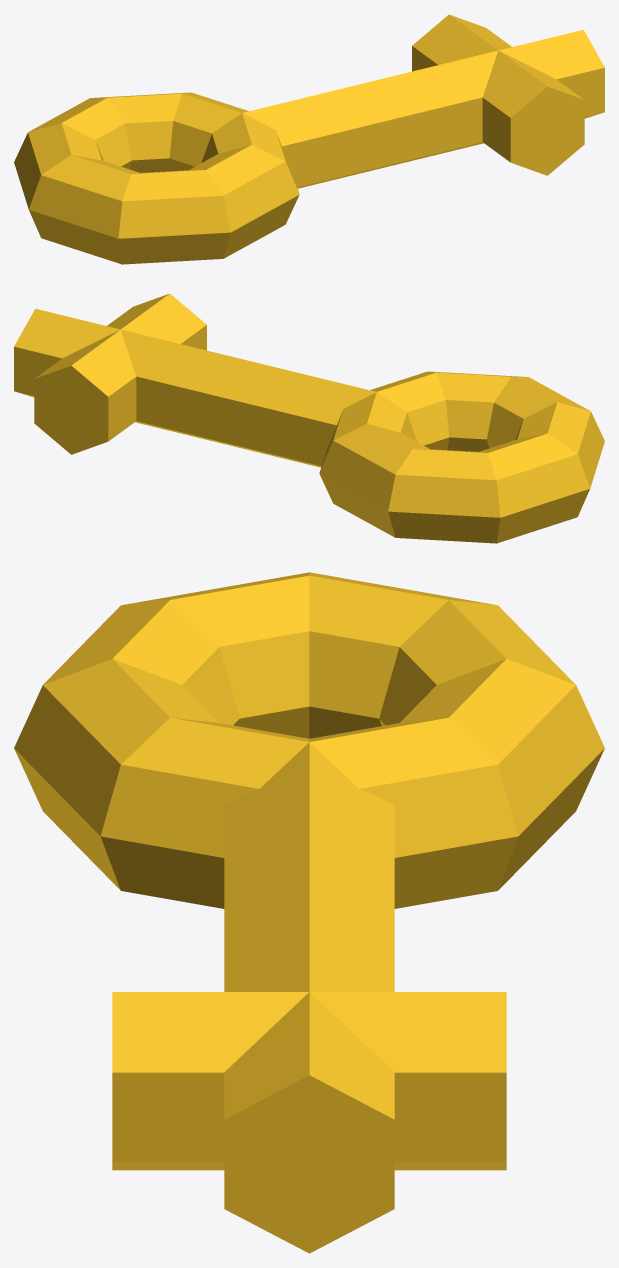
File: key.fbx
3 views of the same model, one above another, from view 1: azimuth 30°, elevation 25°; view 2: azimuth 150°, elevation 25°; view 3: azimuth 270°, elevation 25° (orthographic). The views are drawn at different scales.
Parts seen in each view (by area): view 1: polySurface1; view 2: polySurface1; view 3: polySurface1.
Boxes of the visible parts, x1,y1,x2,y2 form: polySurface1: [14, 14, 604, 264]; polySurface1: [14, 293, 604, 543]; polySurface1: [14, 572, 604, 1253].
Size of the model in its own units: 0.65 by 0.1 by 0.3.
1 material, 1 textured.
